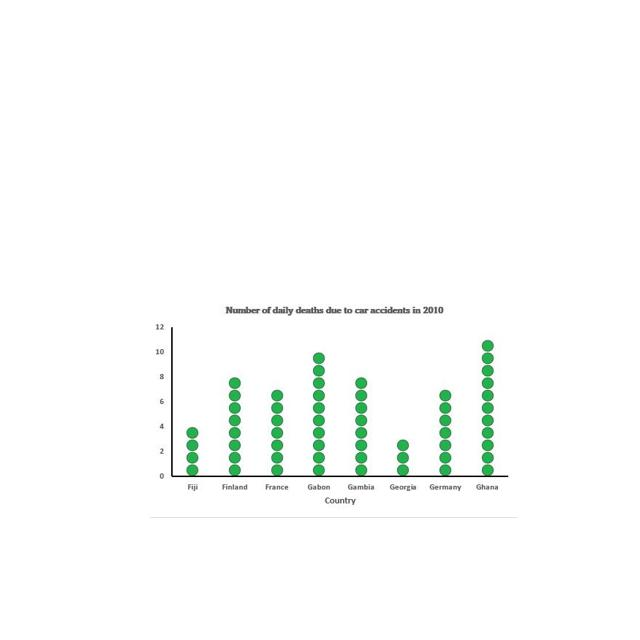Graph: (150, 298, 517, 518)
